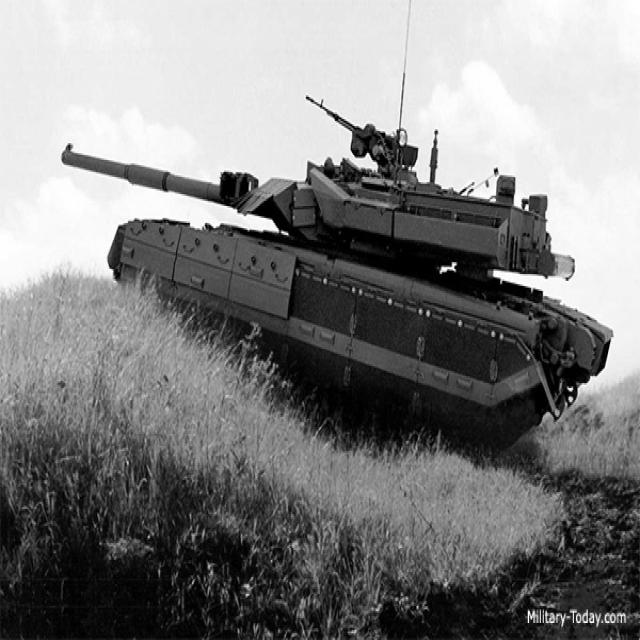Tank: (58, 89, 614, 445)
